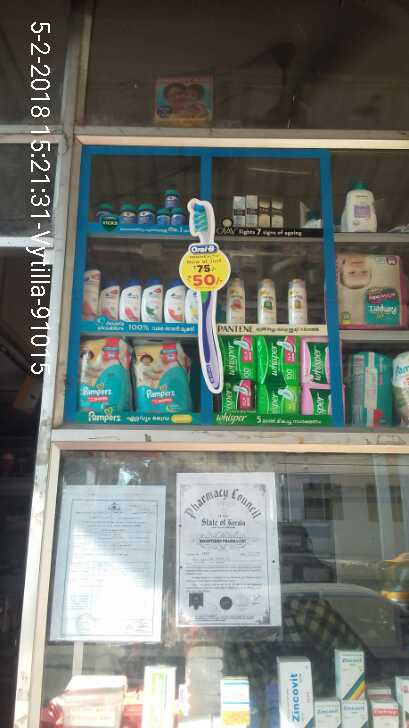vicks: (94, 187, 186, 229)
